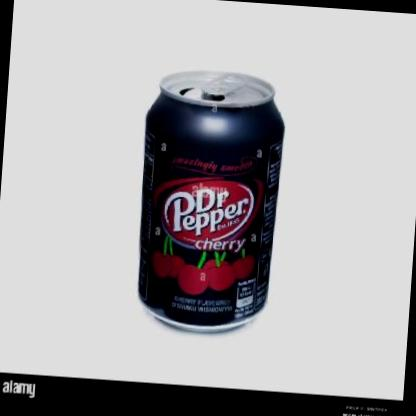alumunium_can: (132, 64, 290, 338)
